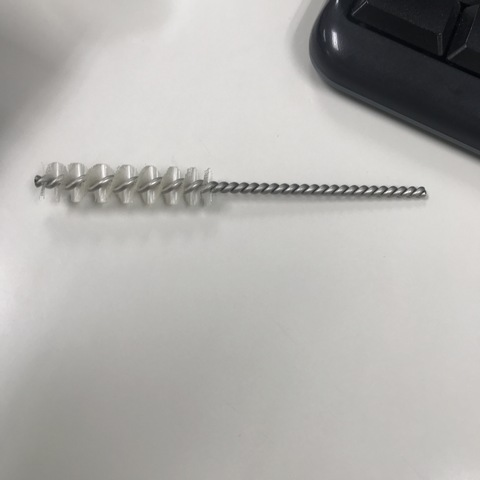Twist Brush-B: (35, 161, 429, 208)
